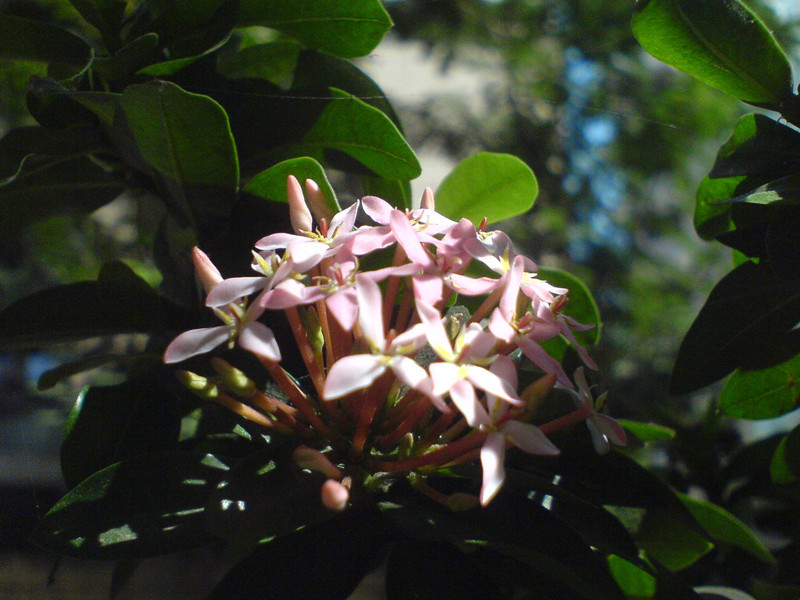ixora: (324, 278, 436, 407), (447, 372, 561, 497), (407, 301, 522, 420), (170, 249, 283, 366), (365, 213, 507, 303), (251, 203, 377, 259)
